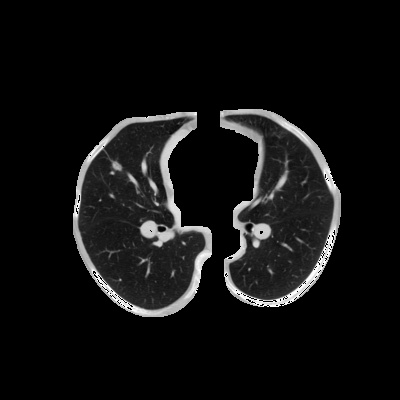PN: (111, 161, 121, 171)
